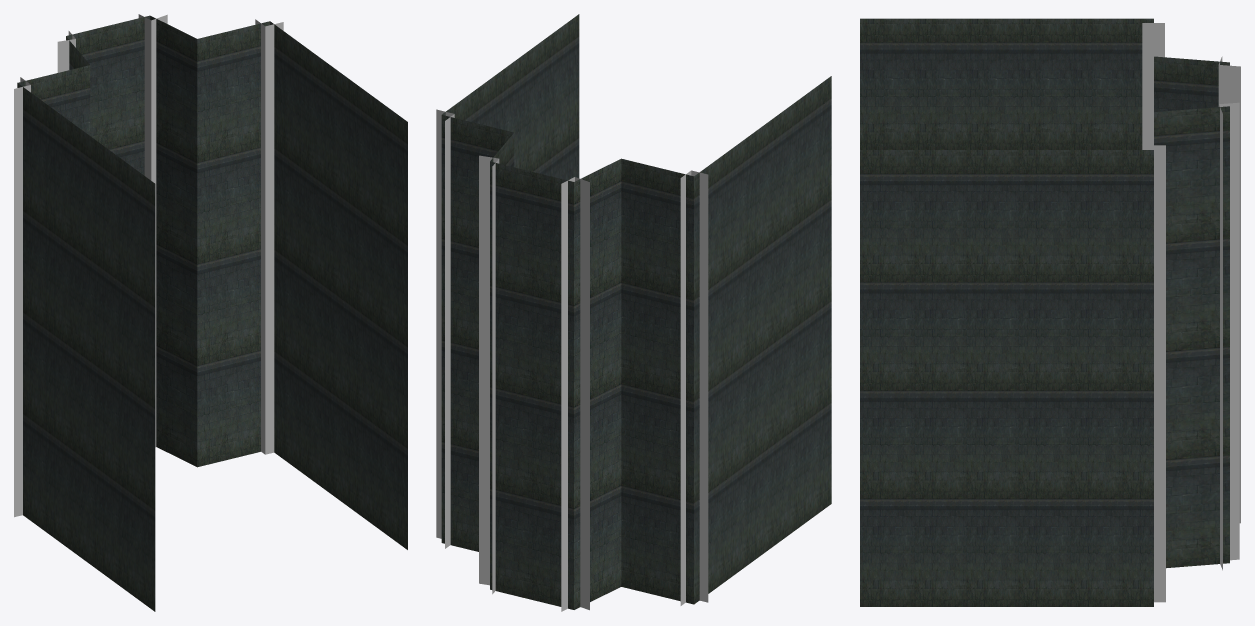
The model's file is environment_Building_zhandouchangjing_003_a.FBX.
The picture shows the model from 3 angles, left to right: view 1: azimuth 30°, elevation 25°; view 2: azimuth 150°, elevation 25°; view 3: azimuth 270°, elevation 25°; orthographic projection. The views are drawn at different scales.
Parts seen in each view (by area): view 1: environment_Building_zhandouchangjing_003_a01, environment_Building_zhandouchangjing_003_a02; view 2: environment_Building_zhandouchangjing_003_a01, environment_Building_zhandouchangjing_003_a02; view 3: environment_Building_zhandouchangjing_003_a01, environment_Building_zhandouchangjing_003_a02.
Boxes of the visible parts, bbox=[...] form: environment_Building_zhandouchangjing_003_a01: bbox=[17, 15, 407, 611]; environment_Building_zhandouchangjing_003_a02: bbox=[14, 14, 283, 517]; environment_Building_zhandouchangjing_003_a01: bbox=[441, 14, 831, 609]; environment_Building_zhandouchangjing_003_a02: bbox=[436, 109, 708, 611]; environment_Building_zhandouchangjing_003_a01: bbox=[860, 18, 1229, 606]; environment_Building_zhandouchangjing_003_a02: bbox=[1142, 23, 1240, 602].
Bounding box in the file's own units: 4917 × 7428 × 5612.
